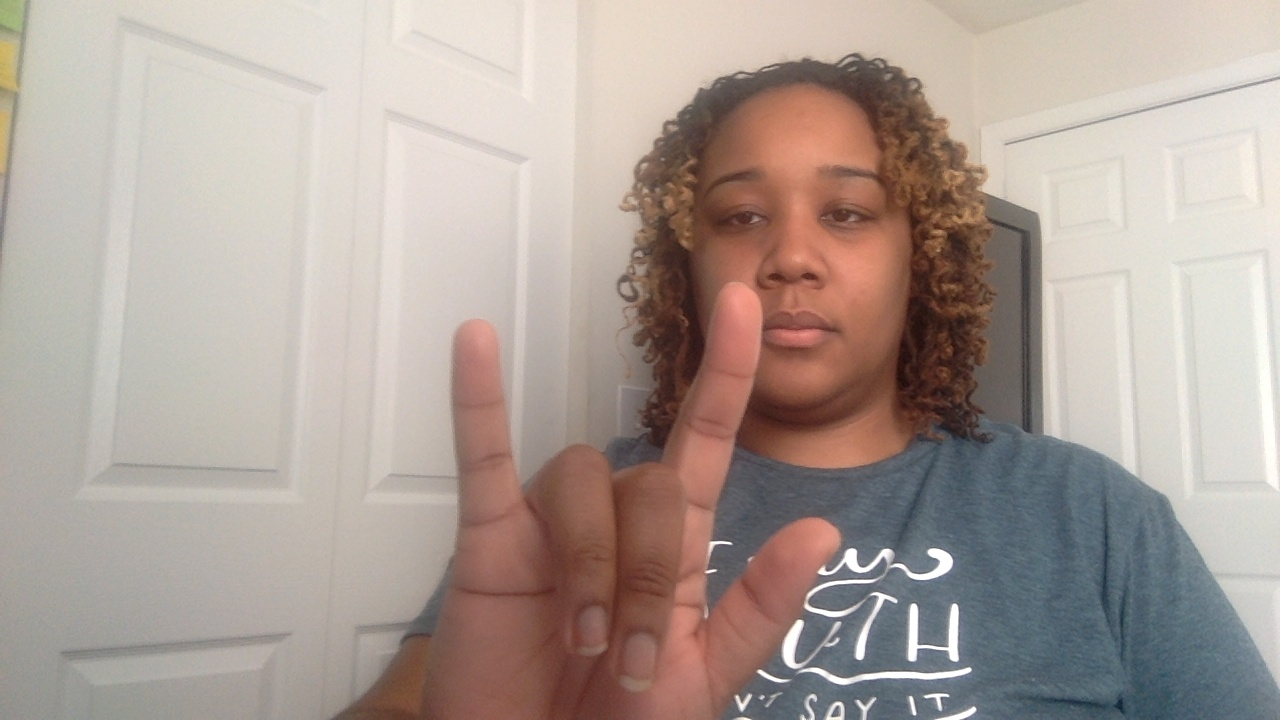i_love_you: (433, 283, 845, 720)
